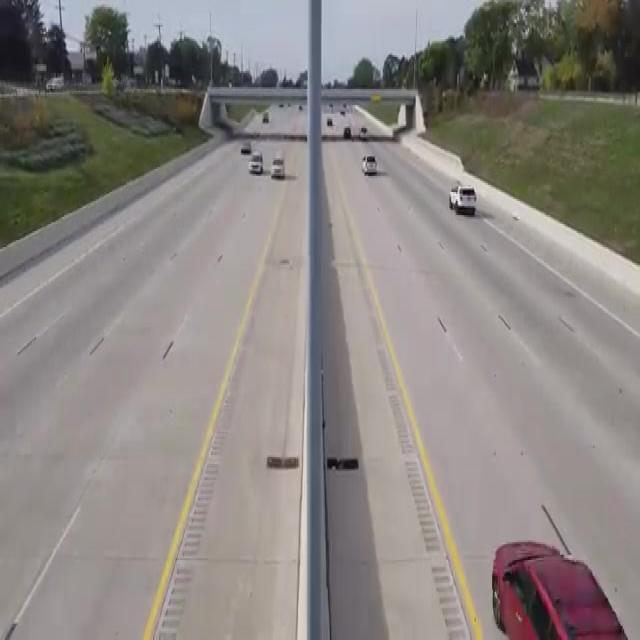car: (477, 526, 631, 640), (439, 178, 486, 222), (349, 142, 380, 184), (268, 154, 291, 188), (249, 148, 266, 183), (239, 137, 253, 156), (340, 122, 356, 138), (358, 126, 372, 140)
